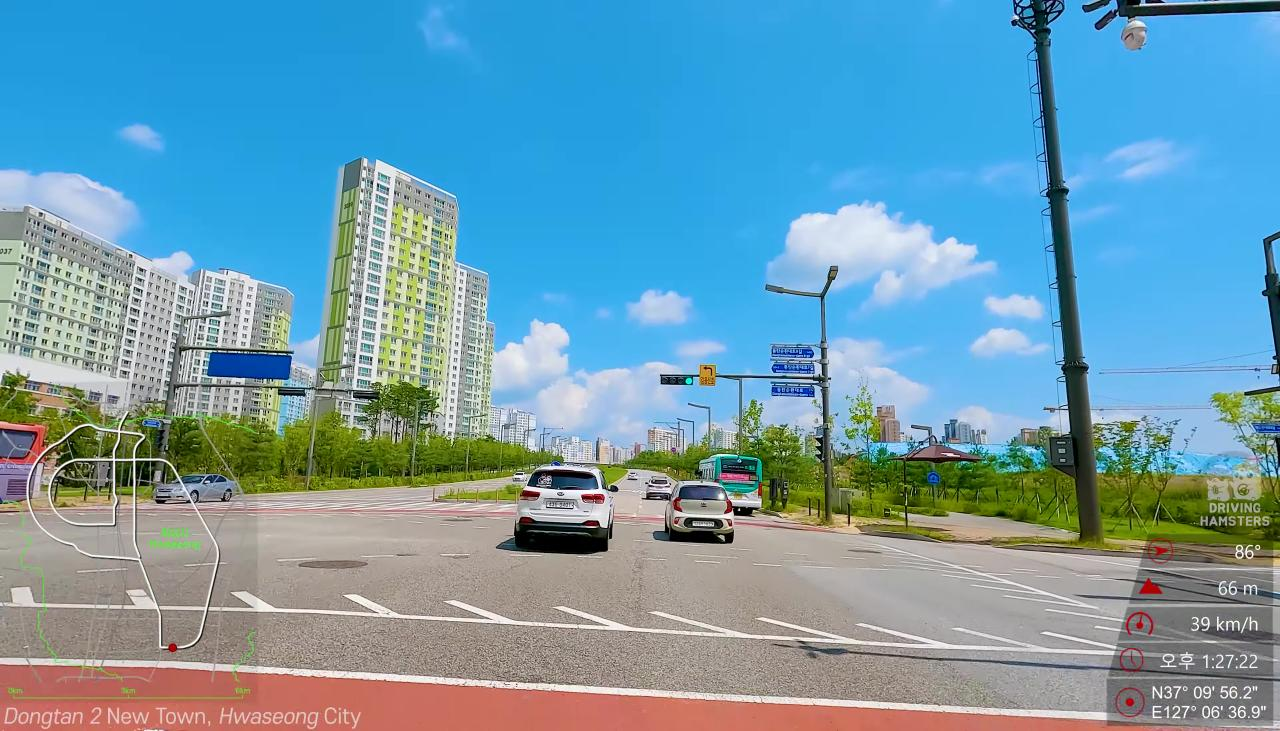Green Light: (685, 377, 693, 384)
